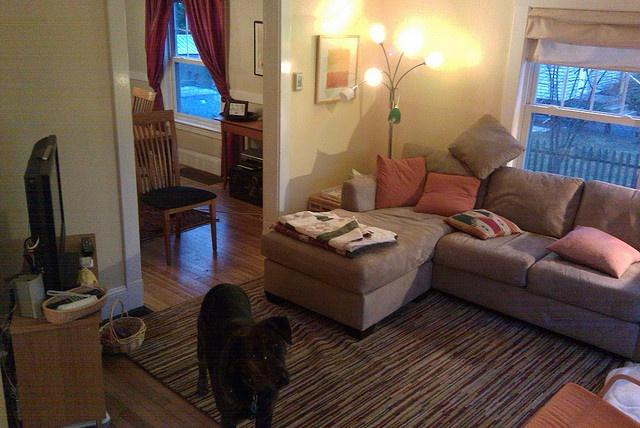AIO PC-Monitor-TV: (22, 133, 78, 299)
Kursi: (131, 108, 218, 266)
